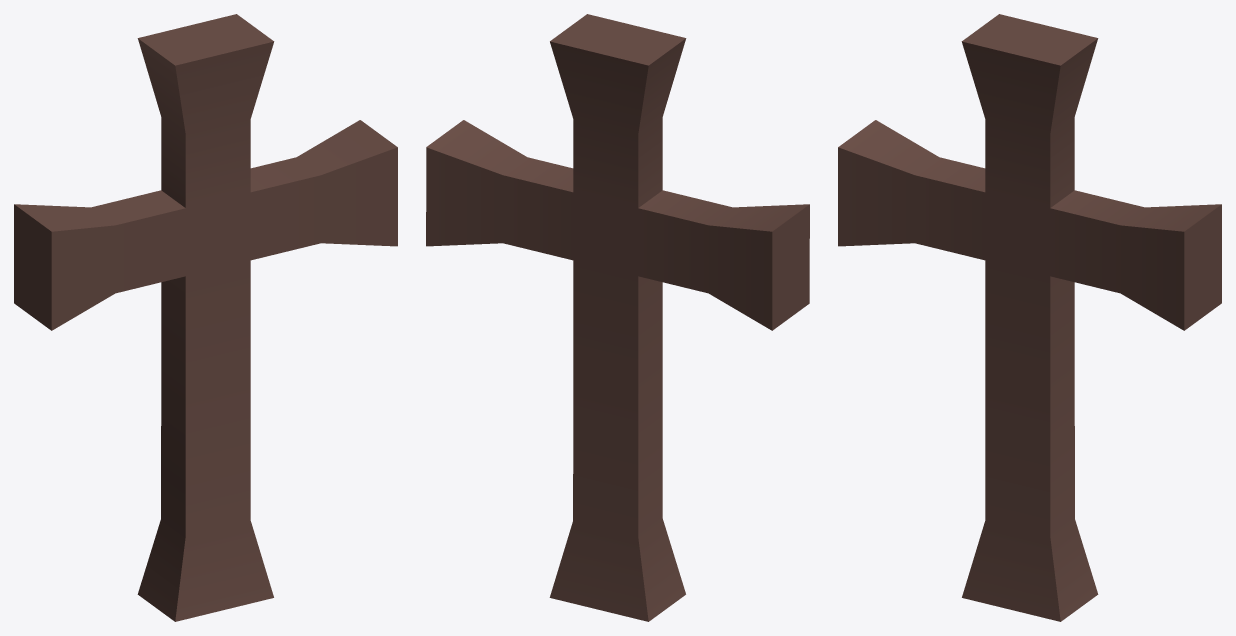
File: wooden_cross.glb
3 renders of one model, left to right at view 1: azimuth 30°, elevation 25°; view 2: azimuth 150°, elevation 25°; view 3: azimuth 330°, elevation 25°, orthographic.
Parts seen in each view (by area): view 1: cross; view 2: cross; view 3: cross.
Boxes of the visible parts, box(x1,y1,x2,y2) form: cross: box(14, 14, 397, 621); cross: box(426, 14, 809, 621); cross: box(838, 14, 1221, 621).
Size of the model in its own units: 0.3784 by 0.5811 by 0.0713.
